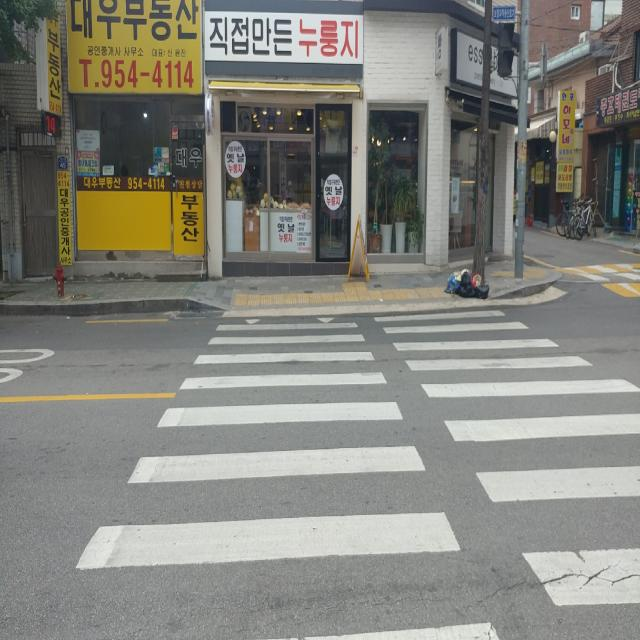횡단보도: (74, 307, 640, 639)
